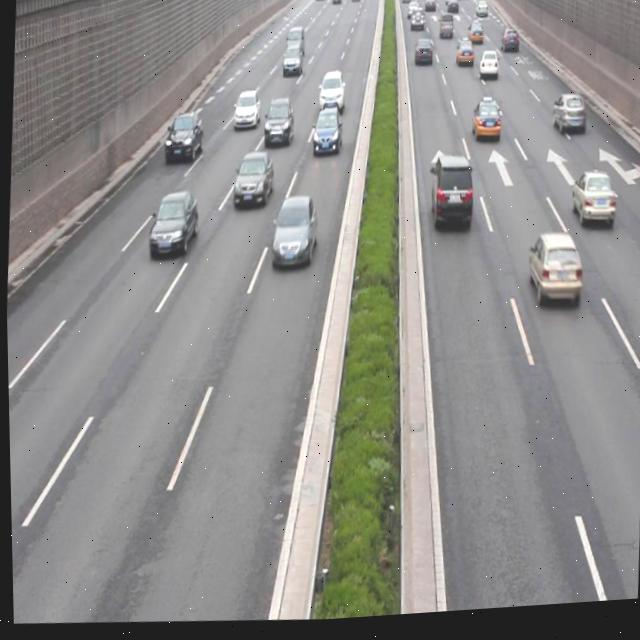car: (524, 237, 581, 319), (427, 160, 474, 238), (146, 193, 198, 263), (270, 199, 317, 276), (567, 173, 614, 237), (230, 151, 274, 215), (162, 115, 203, 165), (309, 110, 342, 161), (550, 100, 586, 146), (262, 101, 294, 147), (469, 102, 499, 149), (317, 75, 343, 118), (231, 93, 260, 131)
